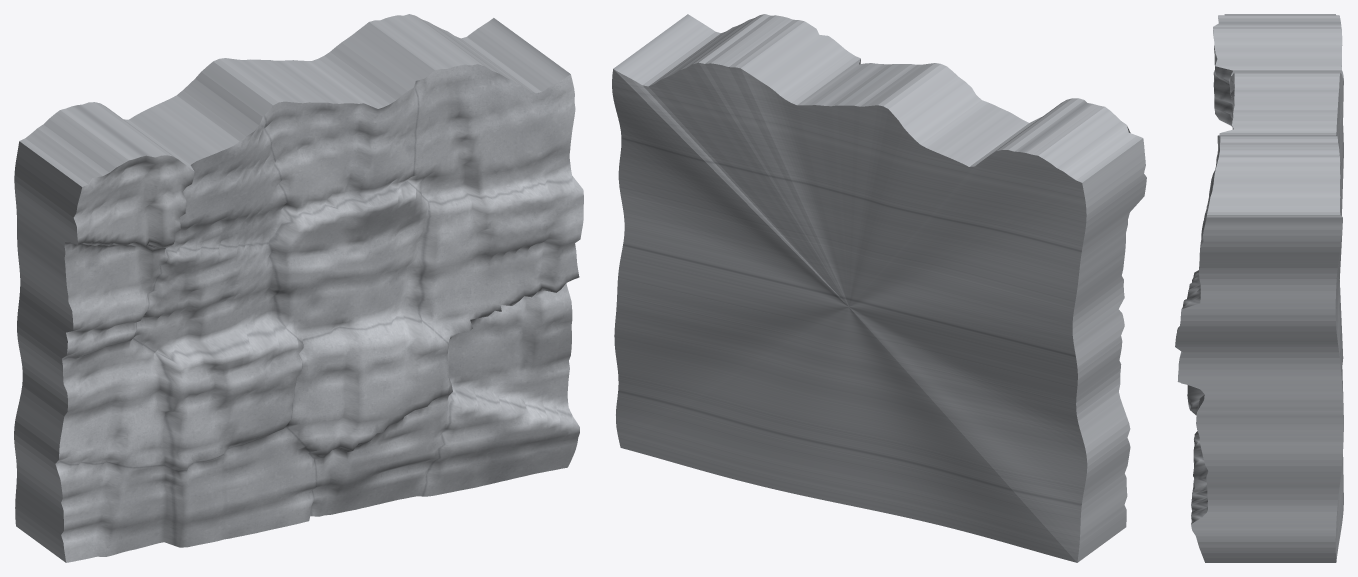
Rendered from rock-lod1.glb.
3 renders of one model, left to right at view 1: azimuth 30°, elevation 25°; view 2: azimuth 150°, elevation 25°; view 3: azimuth 270°, elevation 25°, orthographic. The views are drawn at different scales.
Visible parts, largest first — view 1: Rock_LOD1; view 2: Rock_LOD1; view 3: Rock_LOD1.
Boxes of the visible parts, <box> form: Rock_LOD1: <box>14,14,583,562</box>; Rock_LOD1: <box>612,14,1146,562</box>; Rock_LOD1: <box>1175,14,1343,562</box>.
Size of the model in its own units: 12.07 by 10.01 by 4.11.
Materials: 1 (1 with a texture image).
